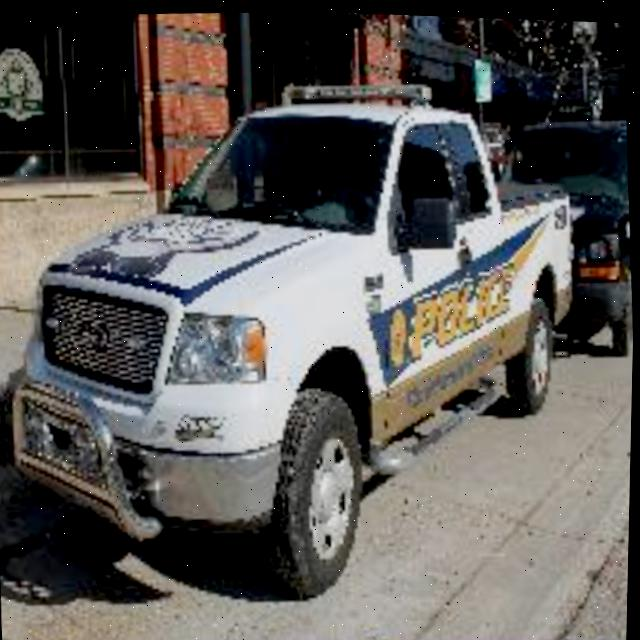emergency: (33, 50, 594, 555)
